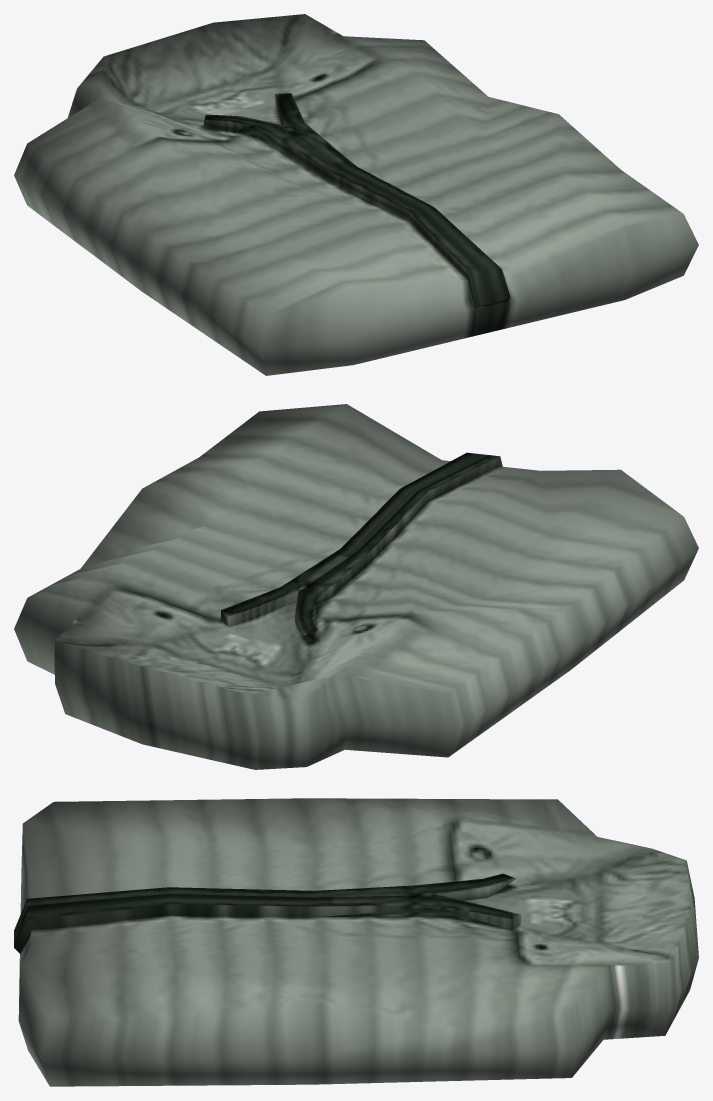
The model's file is jacket.fbx.
3 renders of one model, top to bottom at view 1: azimuth 30°, elevation 25°; view 2: azimuth 150°, elevation 25°; view 3: azimuth 270°, elevation 25°, orthographic. The views are drawn at different scales.
Visible parts, largest first — view 1: Jacket, Plane.004; view 2: Jacket, Plane.004; view 3: Jacket, Plane.004.
Part boxes in pixels (x1,y1,x2,y2): Jacket: (14,14,698,375); Plane.004: (204,114,487,309); Jacket: (14,404,698,769); Plane.004: (295,455,502,641); Jacket: (14,798,698,1086); Plane.004: (14,873,515,935).
Size of the model in its own units: 94.96 by 16.69 by 118.
